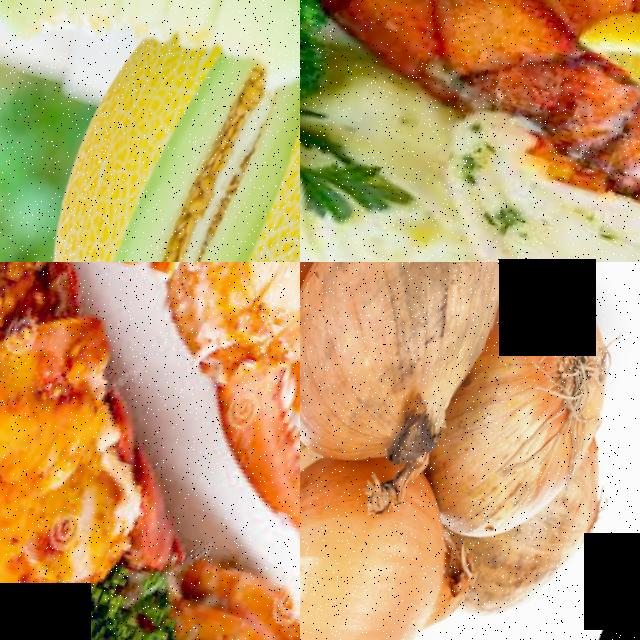lobster tails: (0, 262, 196, 542), (382, 57, 640, 262)
melon: (0, 27, 300, 262), (0, 0, 300, 103)
onion: (420, 263, 640, 551), (300, 262, 548, 486), (300, 436, 489, 640)
